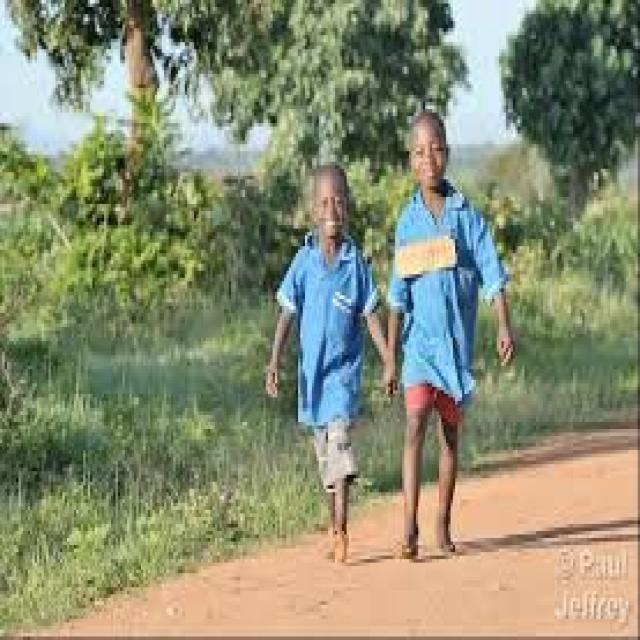Person: (386, 112, 515, 558), (266, 164, 383, 561)
